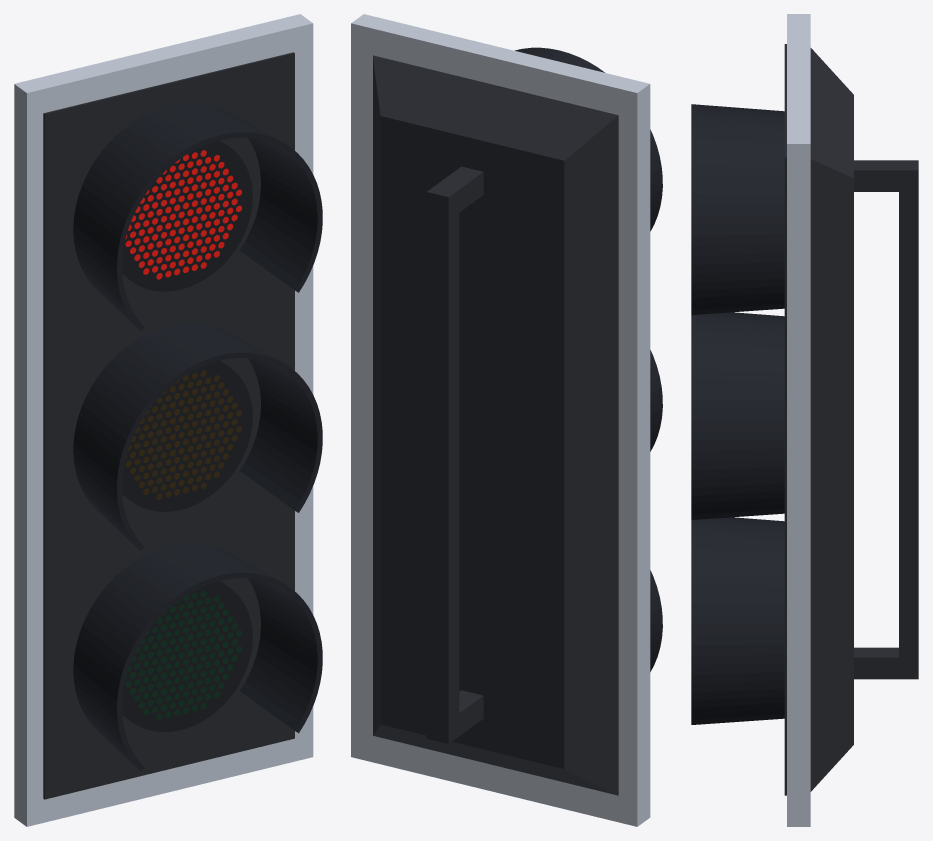
Rendered from 红绿灯.fbx.
3 renders of one model, left to right at view 1: azimuth 30°, elevation 25°; view 2: azimuth 150°, elevation 25°; view 3: azimuth 270°, elevation 25°, orthographic. The views are drawn at different scales.
Parts seen in each view (by area): view 1: 柱体; view 2: 柱体; view 3: 柱体.
Boxes of the visible parts, x1,y1,x2,y2 form: 柱体: (14,14,322,826); 柱体: (351,14,662,826); 柱体: (691,14,918,826).
Bounding box in the file's own units: 38.9 × 95.28 × 28.74.
